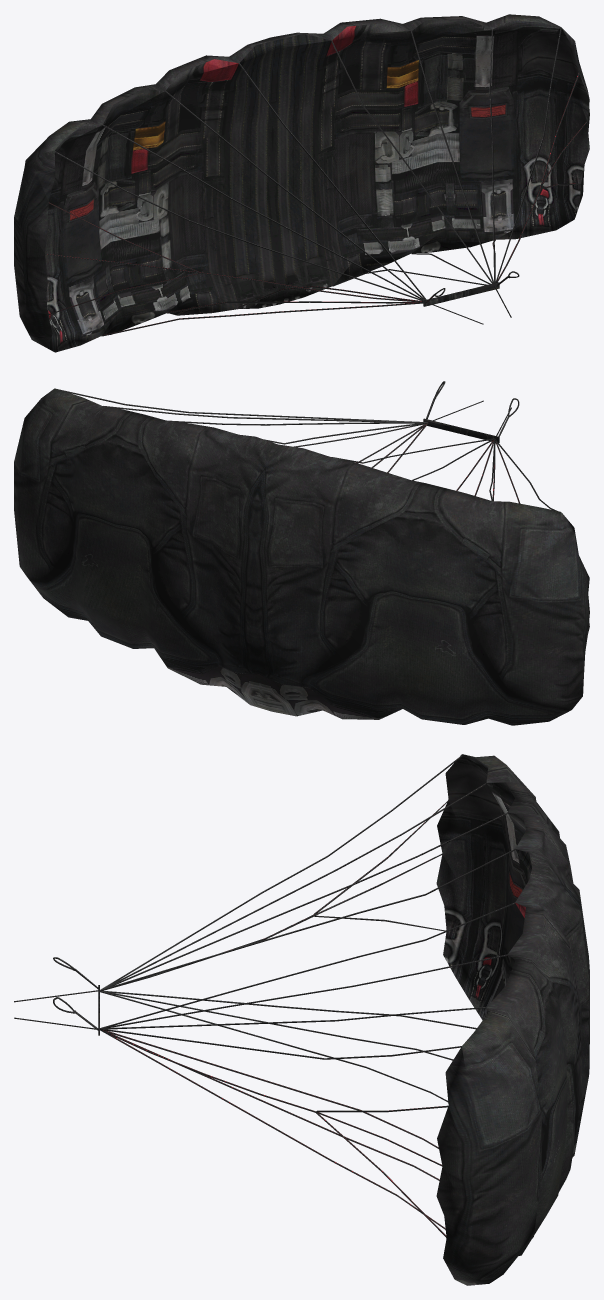
Rendered from parachute.FBX.
The picture shows the model from 3 angles, top to bottom: view 1: azimuth 30°, elevation 25°; view 2: azimuth 150°, elevation 25°; view 3: azimuth 270°, elevation 25°; orthographic projection. The views are drawn at different scales.
Parts seen in each view (by area): view 1: Parachute; view 2: Parachute; view 3: Parachute.
Part boxes in pixels (x1,y1,x2,y2): Parachute: (14, 14, 589, 352); Parachute: (14, 381, 589, 725); Parachute: (14, 754, 589, 1285).
Bounding box in the file's own units: 10536 × 4726 × 7895.
